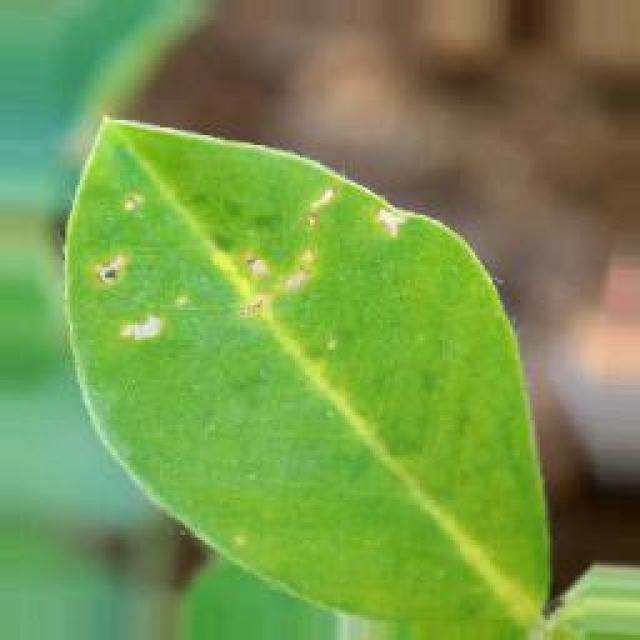Yellow_and_black_sigatoka: (65, 100, 550, 640)
